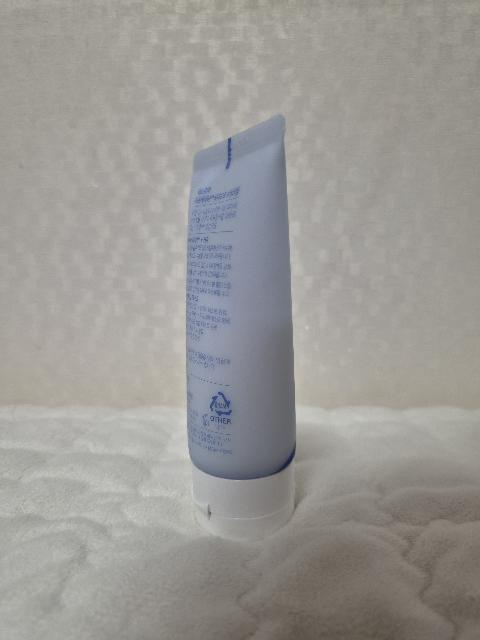handcream: (186, 113, 296, 541)
